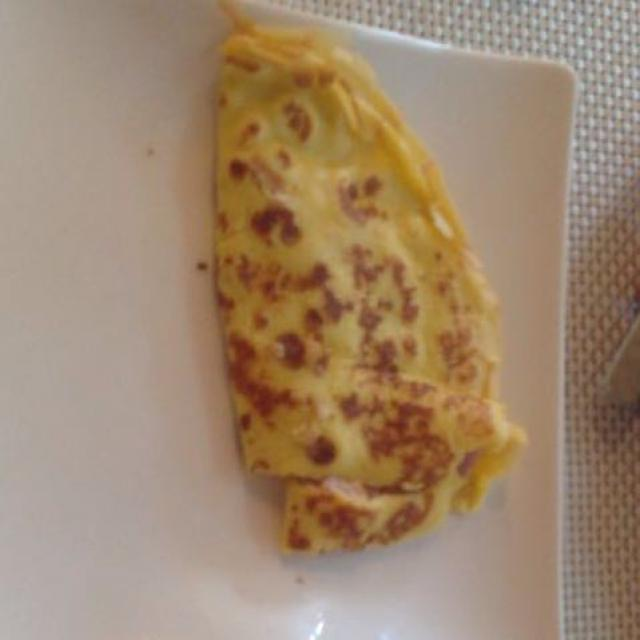crepe: (217, 25, 518, 544)
